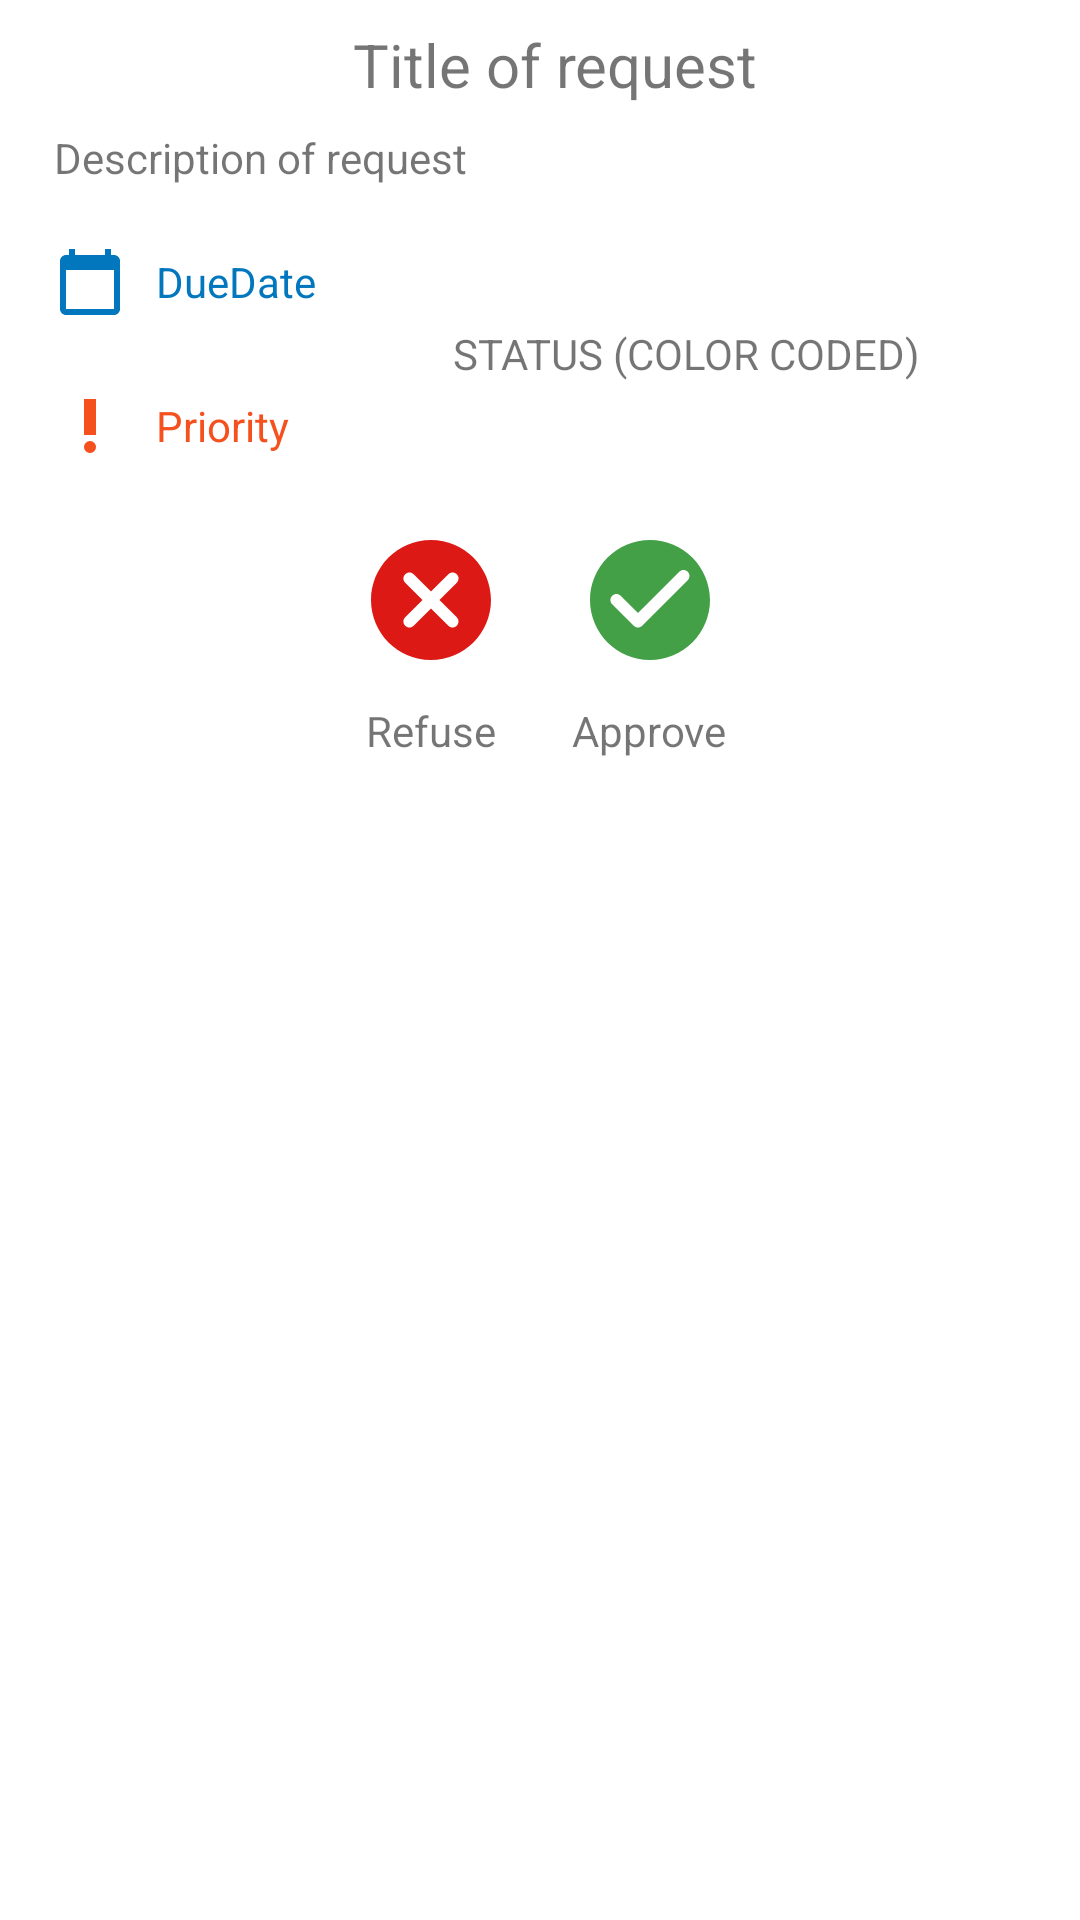

Named icons in this screenshot (1080*1920) and their bounding boxes, (x1, y1, x2, y2):
calendar today: (60, 249, 120, 315)
cancel: (371, 540, 491, 660)
check circle: (590, 540, 710, 660)
